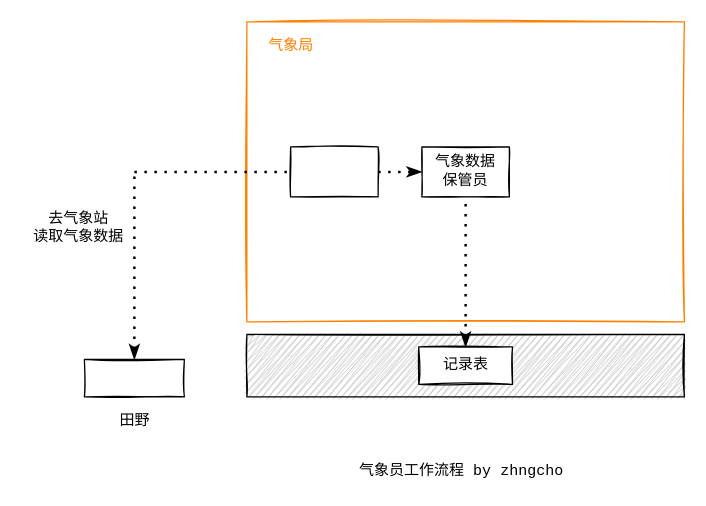
The diagram is 706 pixels wide and 506 high, and some of its shapes have lost their labels. Each missing label, with the centre of its shape:
"气象站" belongs at (x=133, y=377).
"气象观测员" belongs at (x=333, y=171).
